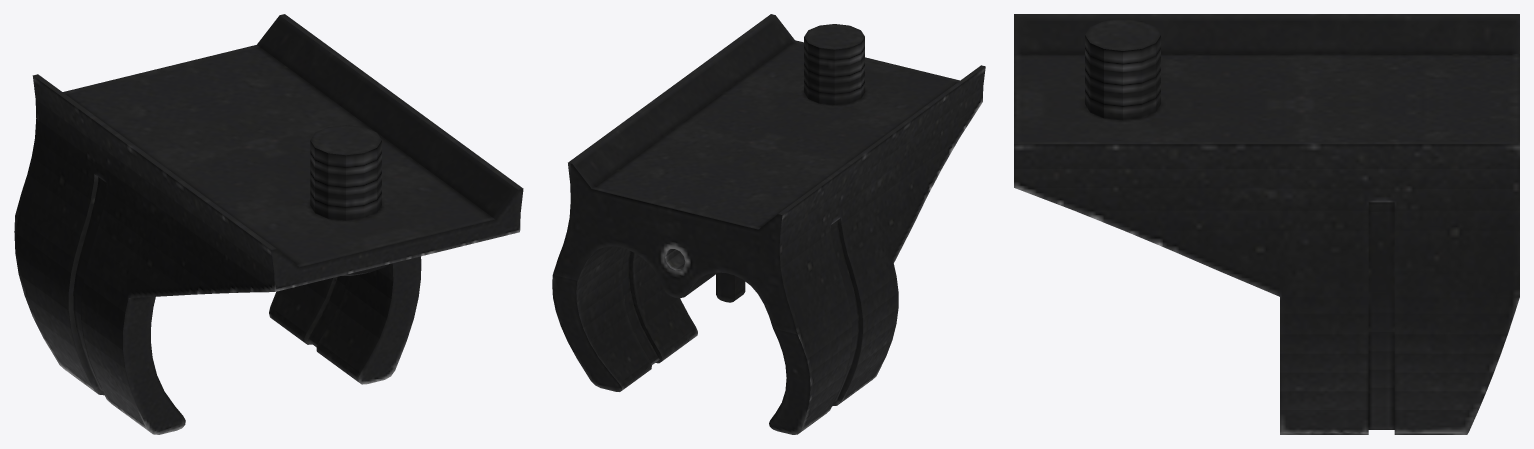
The picture shows the model from 3 angles, left to right: view 1: azimuth 30°, elevation 25°; view 2: azimuth 150°, elevation 25°; view 3: azimuth 270°, elevation 25°; orthographic projection. The views are drawn at different scales.
Parts seen in each view (by area): view 1: TW_674fe8dd362ea1f88b0e2792_PZ_Import; view 2: TW_674fe8dd362ea1f88b0e2792_PZ_Import; view 3: TW_674fe8dd362ea1f88b0e2792_PZ_Import.
Part boxes in pixels (x1,y1,x2,y2): TW_674fe8dd362ea1f88b0e2792_PZ_Import: [14, 14, 523, 434]; TW_674fe8dd362ea1f88b0e2792_PZ_Import: [552, 14, 985, 434]; TW_674fe8dd362ea1f88b0e2792_PZ_Import: [1014, 14, 1519, 434].
Size of the model in its own units: 0.0142 by 0.0197 by 0.0146.
Materials: 1 (1 with a texture image).
